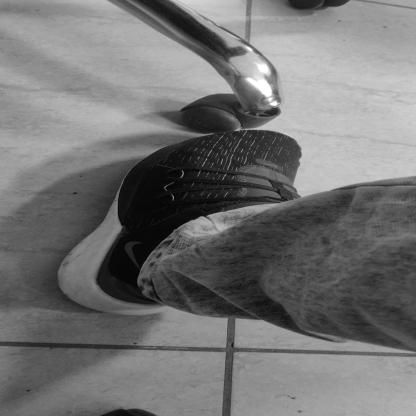ankle: (166, 236, 178, 241)
heel: (125, 305, 137, 311)
left_foot: (56, 131, 304, 316)
pinky: (210, 139, 218, 143)
toe: (296, 148, 301, 151)
